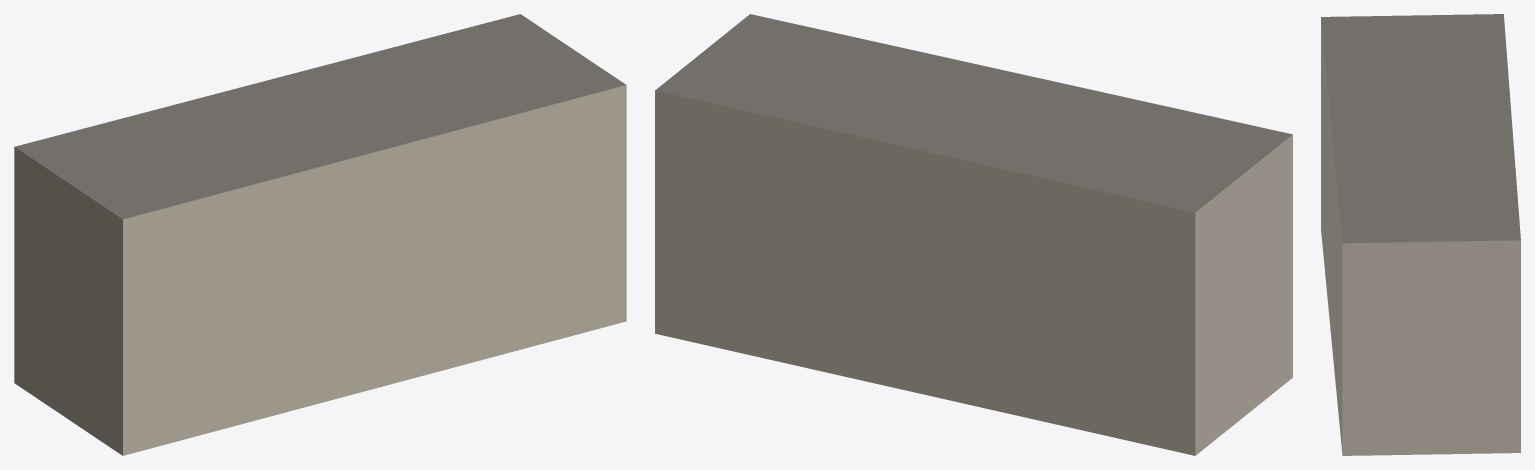
The picture shows the model from 3 angles, left to right: view 1: azimuth 30°, elevation 25°; view 2: azimuth 150°, elevation 25°; view 3: azimuth 270°, elevation 25°; orthographic projection. The views are drawn at different scales.
Visible parts, largest first — view 1: HP-w505646905; view 2: HP-w505646905; view 3: HP-w505646905.
Boxes of the visible parts, x1,y1,x2,y2 form: HP-w505646905: [14, 14, 626, 455]; HP-w505646905: [655, 14, 1292, 455]; HP-w505646905: [1321, 14, 1520, 455].
Bounding box in the file's own units: 27.74 × 12 × 10.22.
